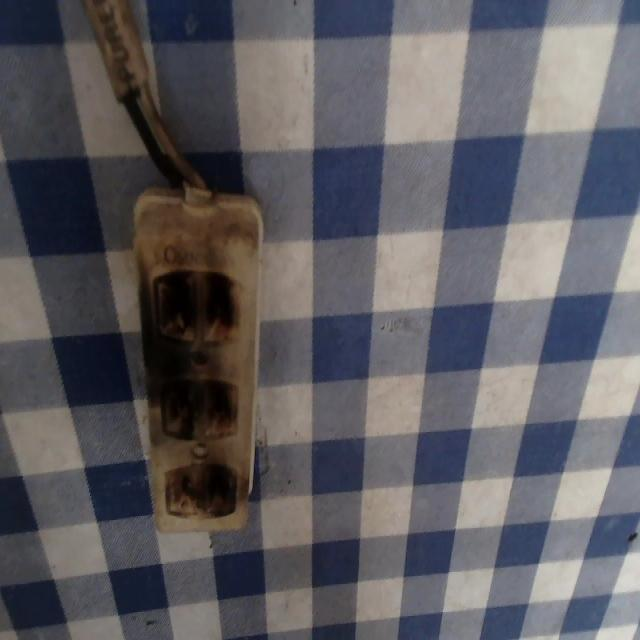-: (148, 264, 242, 345), (157, 374, 242, 442), (162, 458, 239, 522)
